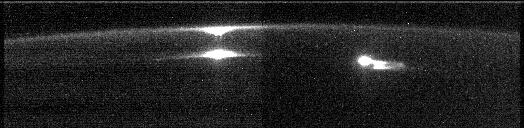negative: (198, 25, 237, 40)
